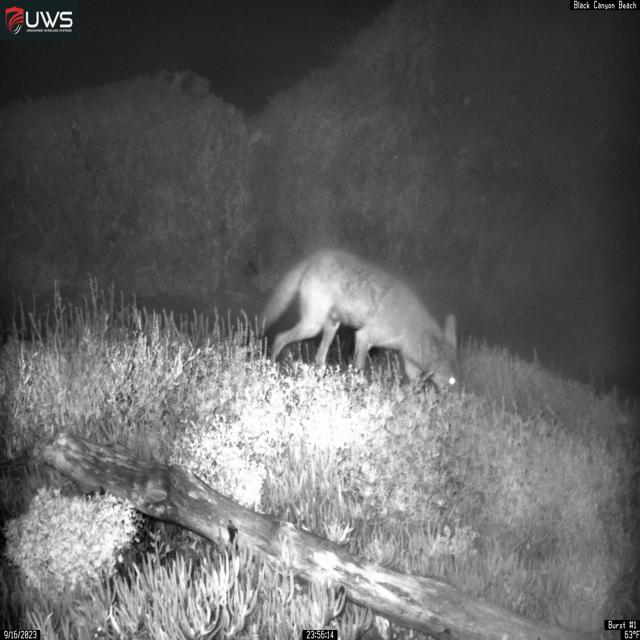coyote: (255, 247, 463, 400)
